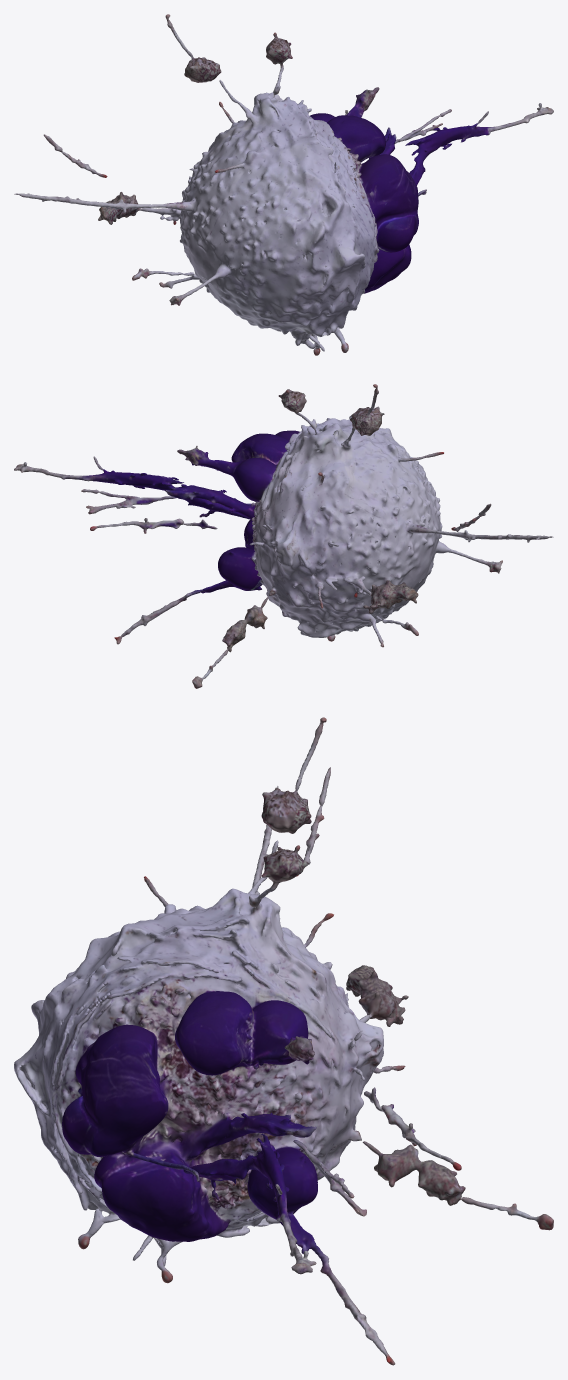
The model's file is purple cell 3d model.glb.
3 renders of one model, top to bottom at view 1: azimuth 30°, elevation 25°; view 2: azimuth 150°, elevation 25°; view 3: azimuth 270°, elevation 25°, orthographic. The views are drawn at different scales.
Parts seen in each view (by area): view 1: tripo_node_9cf5d2a7-b09c-4585-8a2b-64a11155d3ad; view 2: tripo_node_9cf5d2a7-b09c-4585-8a2b-64a11155d3ad; view 3: tripo_node_9cf5d2a7-b09c-4585-8a2b-64a11155d3ad.
Part boxes in pixels (<box>): tripo_node_9cf5d2a7-b09c-4585-8a2b-64a11155d3ad: <box>14,14,553,355</box>; tripo_node_9cf5d2a7-b09c-4585-8a2b-64a11155d3ad: <box>14,384,553,688</box>; tripo_node_9cf5d2a7-b09c-4585-8a2b-64a11155d3ad: <box>14,717,553,1365</box>.
Size of the model in its own units: 1 by 0.5707 by 0.5659.
1 material, 1 textured.
